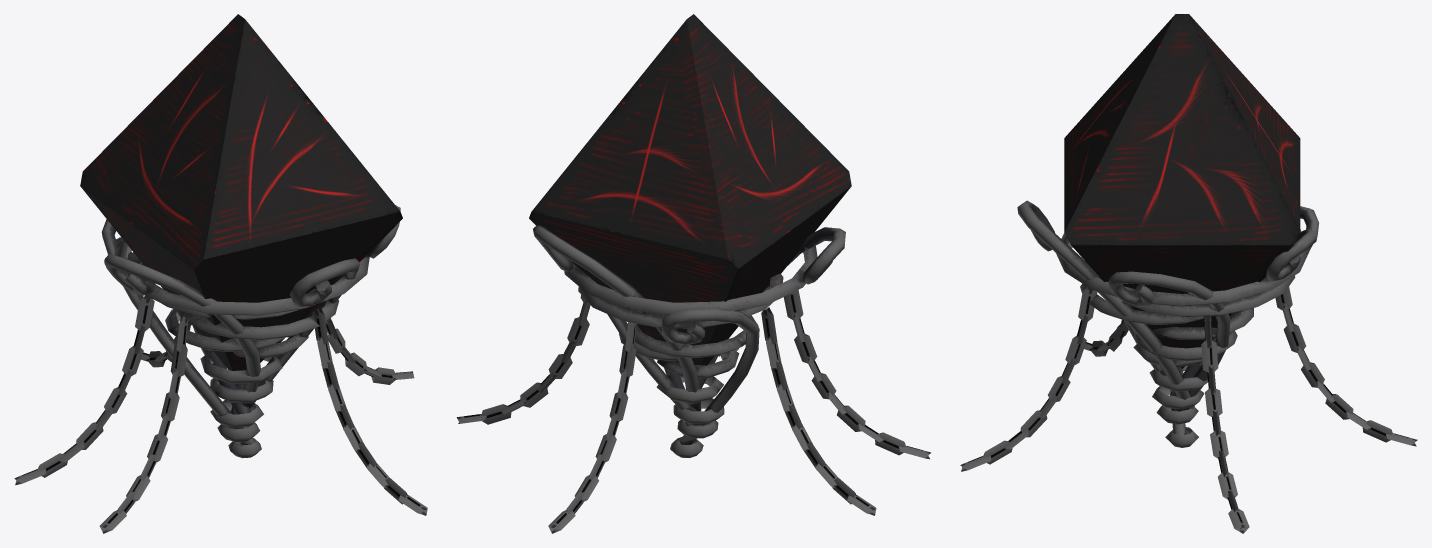
The model's file is crystal_b.FBX.
3 views of the same model, side by side, from view 1: azimuth 30°, elevation 25°; view 2: azimuth 150°, elevation 25°; view 3: azimuth 270°, elevation 25° (orthographic). The views are drawn at different scales.
Visible parts, largest first — view 1: Hedra001, Circle001, Line001, Box002, Box004, Box003, Box005; view 2: Hedra001, Circle001, Line001, Box003, Box002, Box006, Box005; view 3: Hedra001, Circle001, Line001, Box004, Box005, Box006, Box003.
Boxes of the visible parts, left/top/right/bottom form: Hedra001: left=80, top=14, right=402, bottom=370; Circle001: left=114, top=240, right=369, bottom=458; Line001: left=101, top=205, right=400, bottom=444; Box002: left=14, top=295, right=154, bottom=485; Box004: left=312, top=307, right=427, bottom=515; Box003: left=99, top=315, right=188, bottom=533; Box005: left=326, top=318, right=414, bottom=384; Hedra001: left=529, top=14, right=851, bottom=365; Circle001: left=564, top=246, right=817, bottom=457; Line001: left=533, top=225, right=845, bottom=444; Box003: left=783, top=290, right=930, bottom=459; Box002: left=761, top=307, right=876, bottom=515; Box006: left=548, top=322, right=636, bottom=533; Box005: left=456, top=295, right=590, bottom=424; Hedra001: left=1064, top=14, right=1300, bottom=368; Circle001: left=1056, top=232, right=1308, bottom=447; Line001: left=1017, top=200, right=1318, bottom=435; Box004: left=960, top=287, right=1097, bottom=471; Box005: left=1201, top=315, right=1249, bottom=533; Box006: left=1275, top=287, right=1417, bottom=446; Box003: left=1084, top=319, right=1128, bottom=356.
Bounding box in the file's own units: 168 × 172 × 167.
